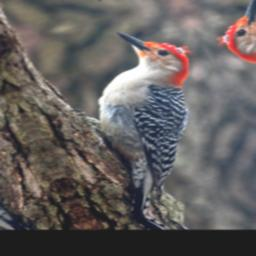Woodpecker: (37, 18, 256, 218)
